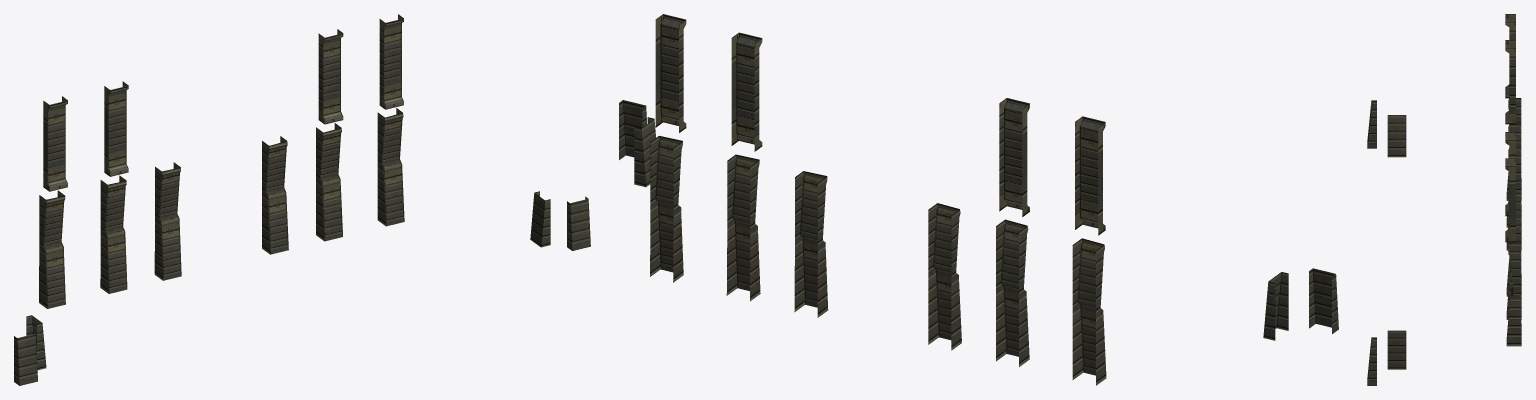
File: koloni_tex1.fbx
3 renders of one model, left to right at view 1: azimuth 30°, elevation 25°; view 2: azimuth 150°, elevation 25°; view 3: azimuth 270°, elevation 25°, orthographic. The views are drawn at different scales.
Visible parts, largest first — view 1: koloni_tex1; view 2: koloni_tex1; view 3: koloni_tex1.
Boxes of the visible parts, bbox=[...] form: koloni_tex1: bbox=[14, 14, 590, 385]; koloni_tex1: bbox=[619, 14, 1338, 385]; koloni_tex1: bbox=[1367, 14, 1521, 385].
Size of the model in its own units: 505 by 173 by 134.
Materials: 1 (1 with a texture image).
